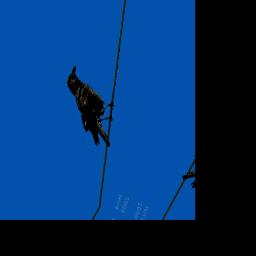Crow: (52, 61, 130, 152)
